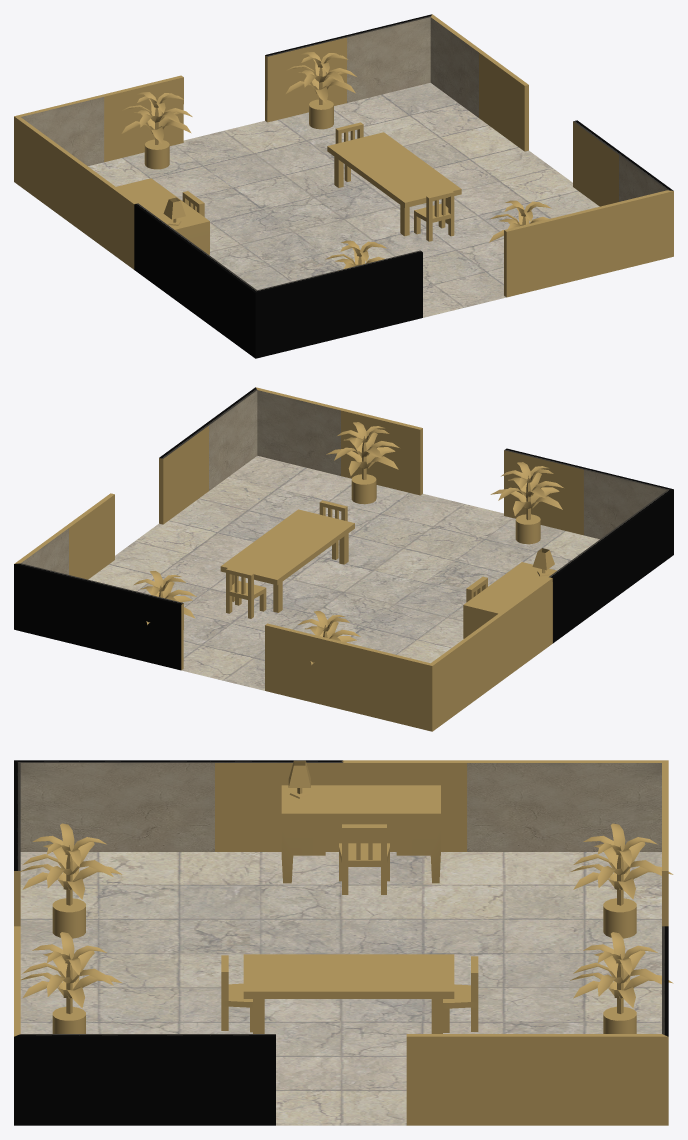
Rendered from Room1x1_3Exits.fbx.
3 renders of one model, top to bottom at view 1: azimuth 30°, elevation 25°; view 2: azimuth 150°, elevation 25°; view 3: azimuth 270°, elevation 25°, orthographic. The views are drawn at different scales.
Visible parts, largest first — view 1: Room1x1_3Exits, Table04, Desk2, Plant012, Plant013, Chair01, Plant014, Plant015, Chair; view 2: Room1x1_3Exits, Table04, Desk2, Plant015, Plant014, Chair, Plant013, Plant012, Chair01; view 3: Room1x1_3Exits, Table04, Desk2, Plant015, Plant012, Plant014, Plant013, Chair03, Chair, Chair01.
Part boxes in pixels (x1,y1,x2,y2): Room1x1_3Exits: [14, 14, 673, 358]; Table04: [327, 132, 461, 236]; Desk2: [116, 178, 209, 255]; Plant012: [121, 92, 192, 169]; Plant013: [286, 51, 356, 129]; Chair01: [414, 190, 454, 241]; Plant014: [489, 200, 551, 242]; Plant015: [325, 240, 387, 270]; Chair: [335, 122, 363, 181]; Room1x1_3Exits: [14, 387, 673, 731]; Table04: [220, 509, 354, 612]; Desk2: [463, 548, 556, 638]; Plant015: [490, 462, 563, 544]; Plant014: [326, 422, 399, 504]; Chair: [226, 567, 266, 618]; Plant013: [134, 571, 196, 624]; Plant012: [298, 611, 360, 664]; Chair01: [319, 500, 347, 559]; Room1x1_3Exits: [14, 760, 668, 1125]; Table04: [243, 954, 454, 1033]; Desk2: [281, 760, 440, 883]; Plant015: [20, 823, 122, 938]; Plant012: [570, 823, 673, 938]; Plant014: [21, 932, 122, 1033]; Plant013: [570, 932, 673, 1033]; Chair03: [339, 824, 389, 894]; Chair: [443, 956, 478, 1032]; Chair01: [221, 955, 252, 1032].
Size of the model in its own units: 10 by 1.73 by 10.08.
1 material, 1 textured.
